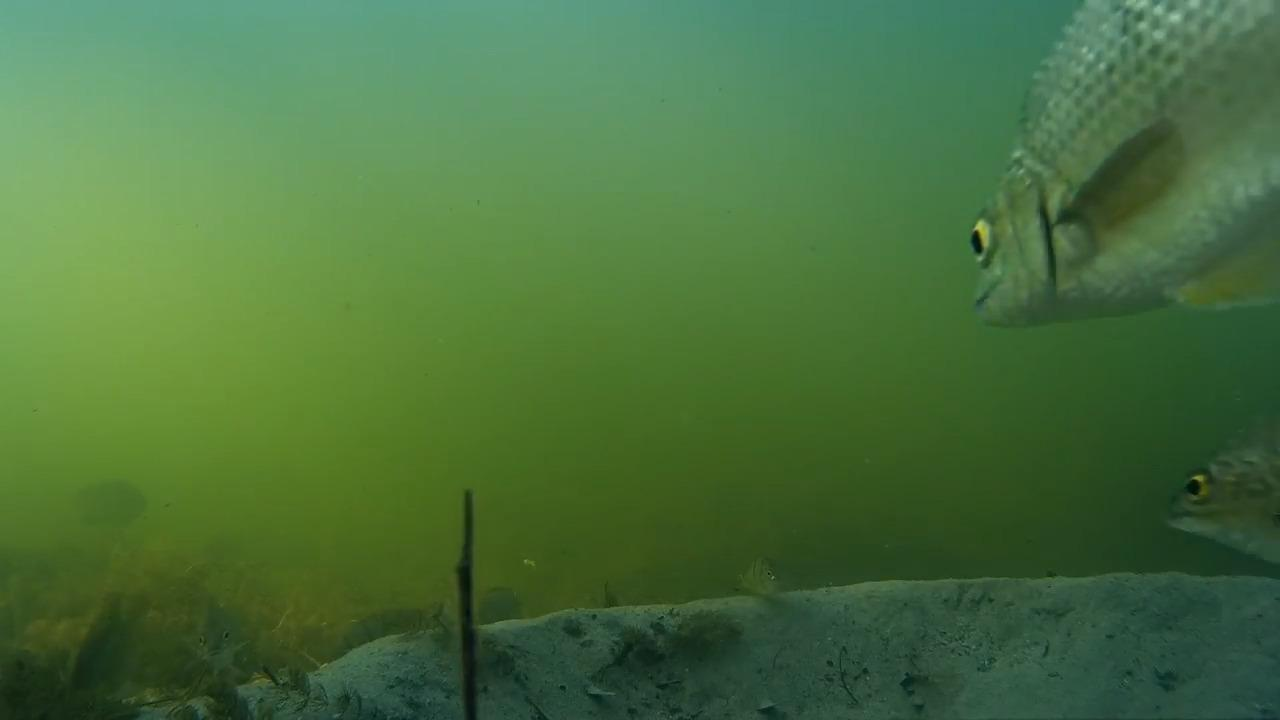Tilapia: (990, 14, 1277, 342), (1159, 433, 1275, 582)
